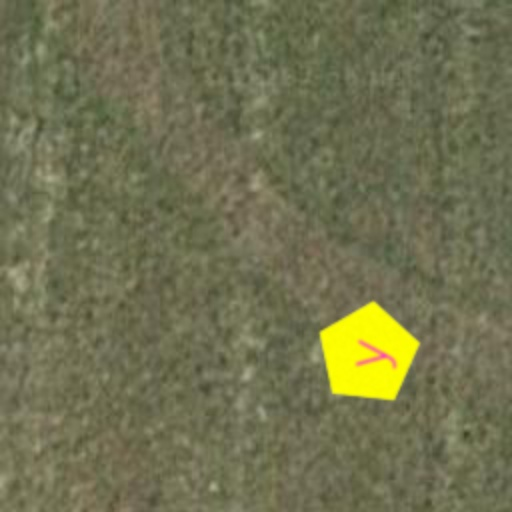pentagon: (308, 294, 428, 414)
